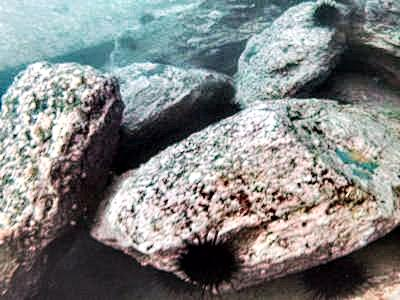urchin: (174, 229, 242, 296), (291, 254, 367, 295), (308, 3, 339, 26)
